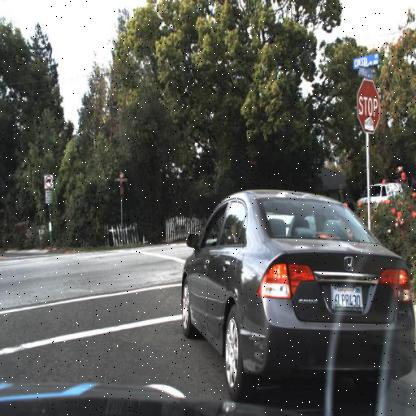car: (168, 178, 415, 403), (352, 162, 409, 224)
